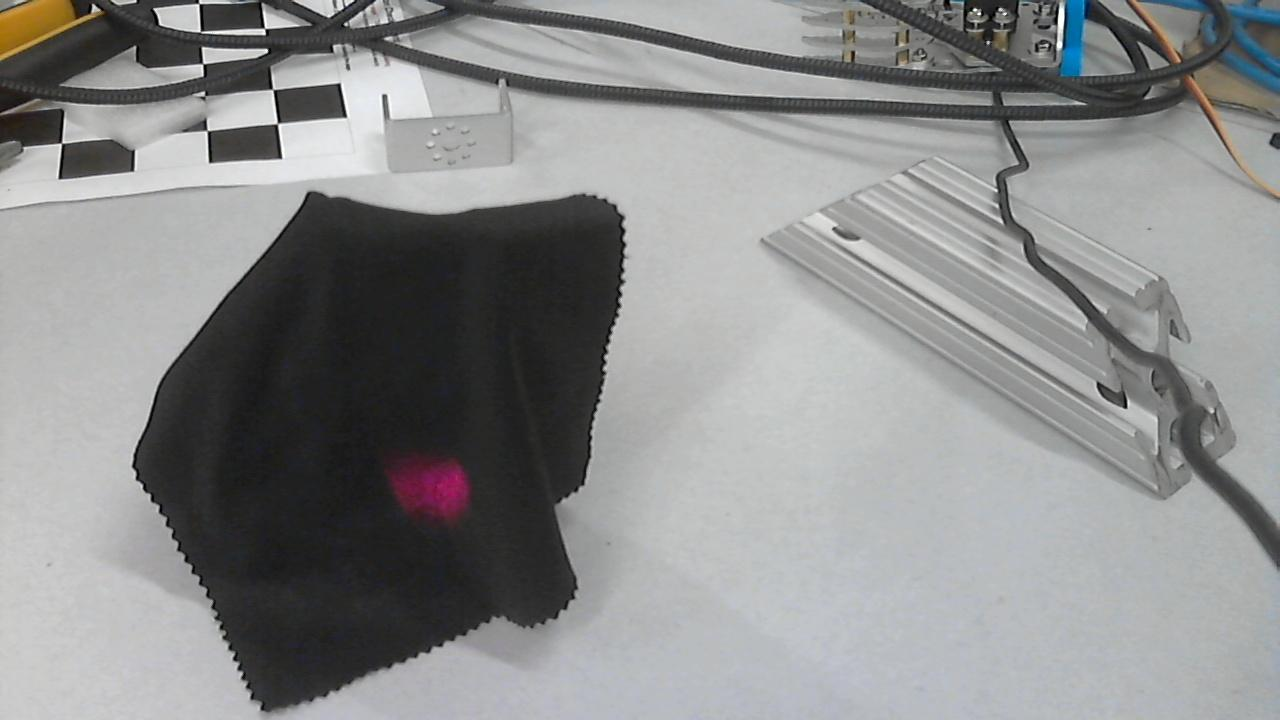Object microfiber cleaning cloth - Material fabric - Color black - Pdfname drQGv: (354, 434, 478, 530)
